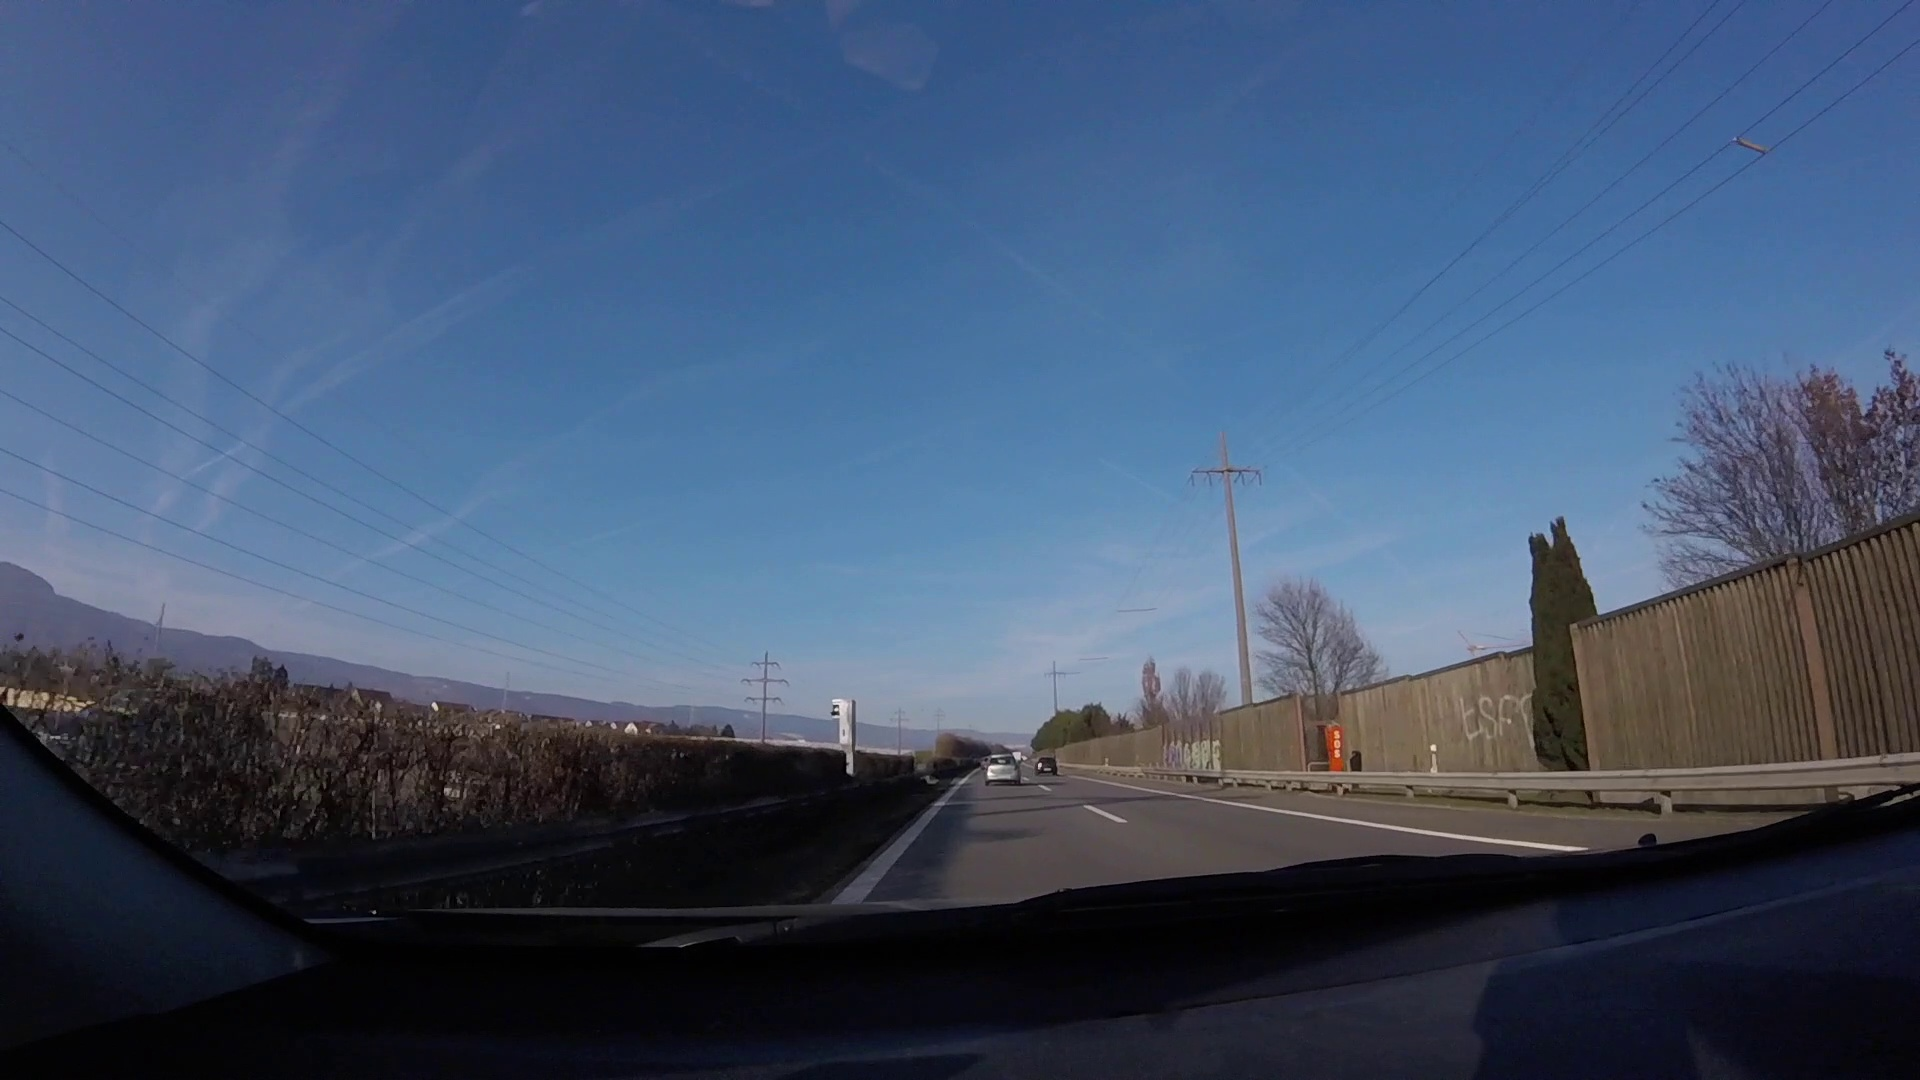radar: (829, 698, 860, 781)
